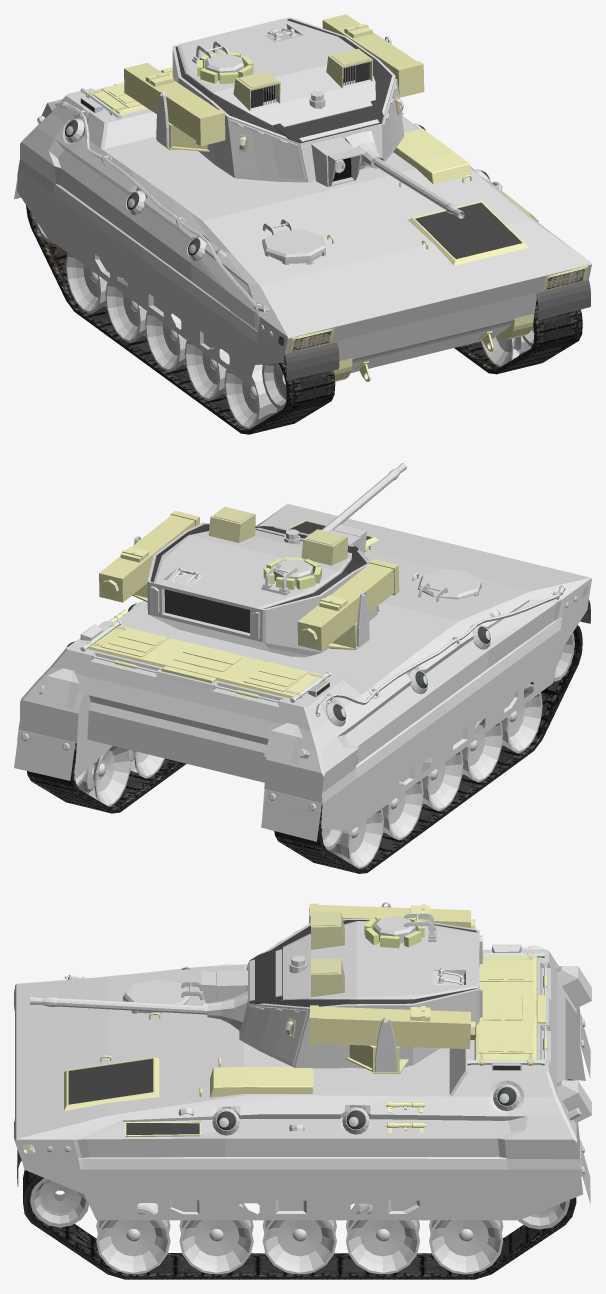
Rendered from Giena2.fbx.
3 views of the same model, one above another, from view 1: azimuth 30°, elevation 25°; view 2: azimuth 150°, elevation 25°; view 3: azimuth 270°, elevation 25° (orthographic). The views are drawn at different scales.
Parts seen in each view (by area): view 1: corpus, tower; view 2: corpus, tower; view 3: corpus, tower.
Boxes of the visible parts, x1=… form: corpus: x1=14, y1=67, x2=591, y2=434; tower: x1=124, y1=14, x2=464, y2=218; corpus: x1=14, y1=504, x2=591, y2=873; tower: x1=99, y1=463, x2=406, y2=657; corpus: x1=14, y1=944, x2=591, y2=1279; tower: x1=30, y1=902, x2=482, y2=1073.
Bounding box in the file's own units: 315 × 252 × 491.
